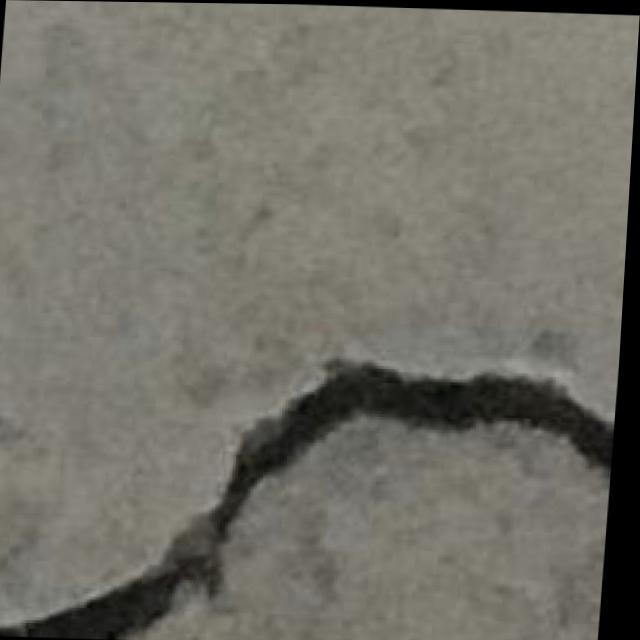Crack: (0, 305, 623, 639)
